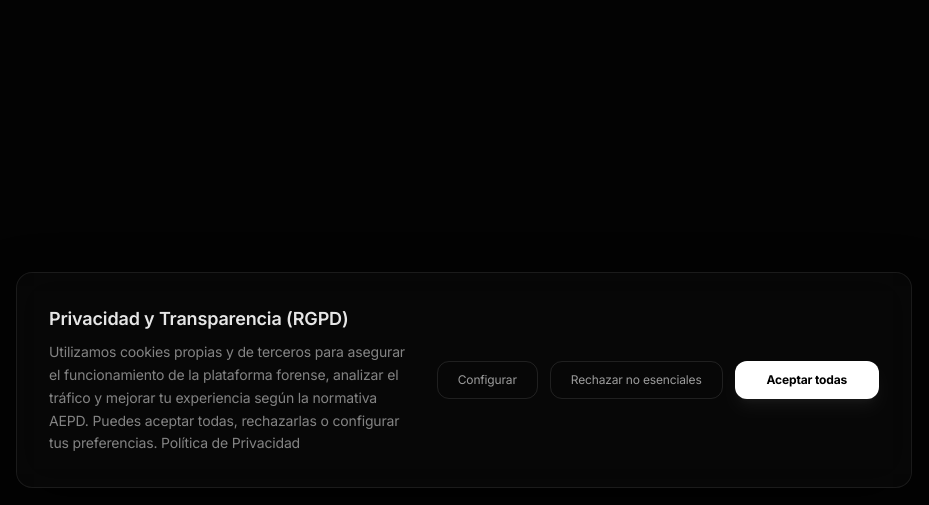
Scenario: CookieConsent › should show configuration panel when Configure is clicked
The width and height of the screenshot is (929, 505).
Click the button "Configurar": x=487, y=380 [437, 361, 538, 399]
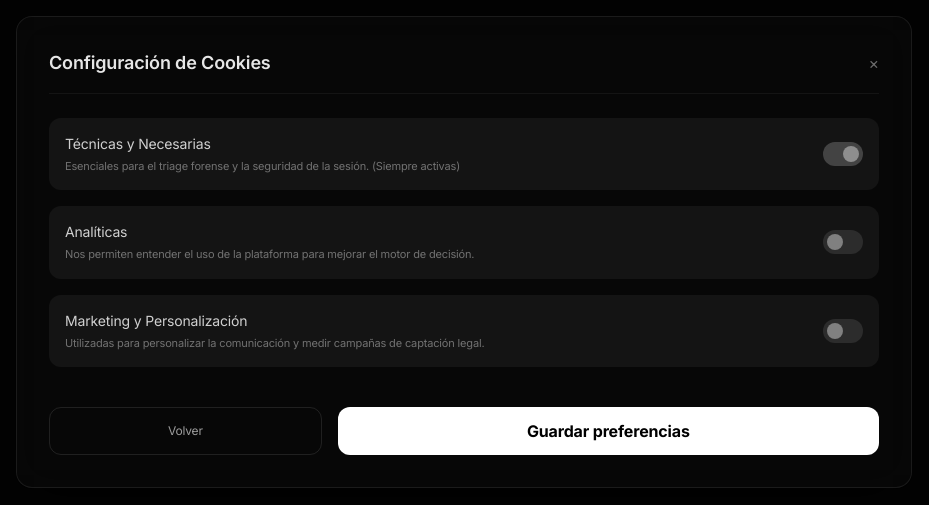
Result: the heading "Configuración de Cookies" is shown at [49, 48, 271, 76]
Result: the heading "Técnicas y Necesarias" is shown at [65, 134, 211, 152]
Result: the heading "Analíticas" is shown at [65, 223, 127, 240]
